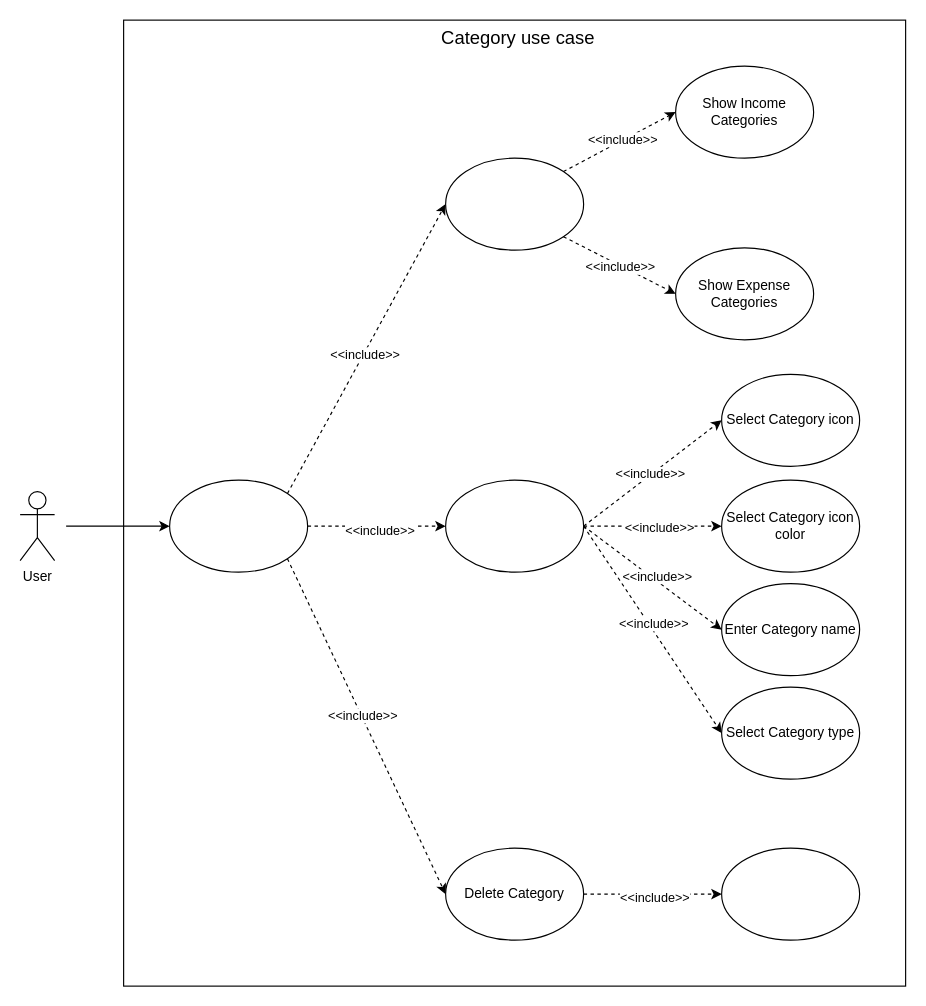
This 926x1006 diagram has some shape labels left out. The box of each missing label's shape, as (x1, y1, x2, y2) in pixels:
Categories: (168, 479, 308, 572)
Check category is exist or not: (720, 847, 860, 940)
Create Category: (444, 479, 584, 572)
View Categories: (444, 157, 584, 250)
